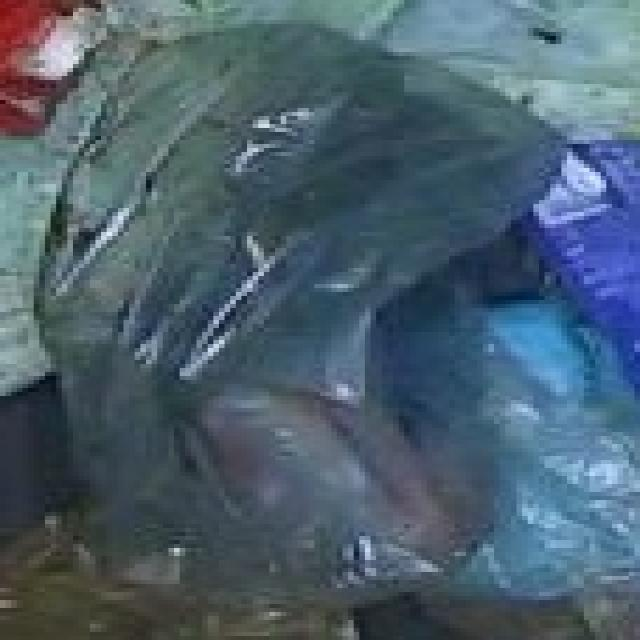litter: (2, 8, 640, 603)
